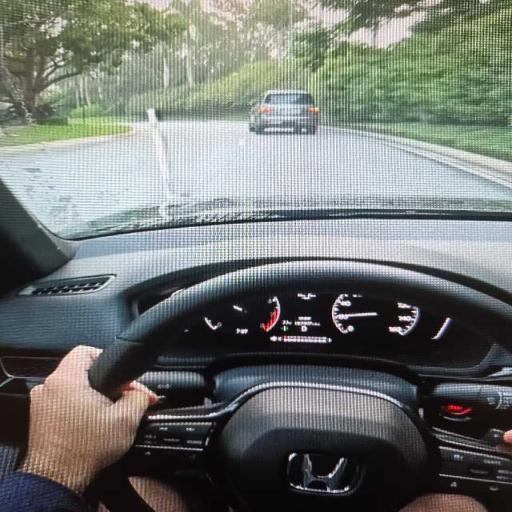car: (249, 90, 319, 133)
lane: (0, 121, 510, 231)
person: (0, 346, 157, 511)
